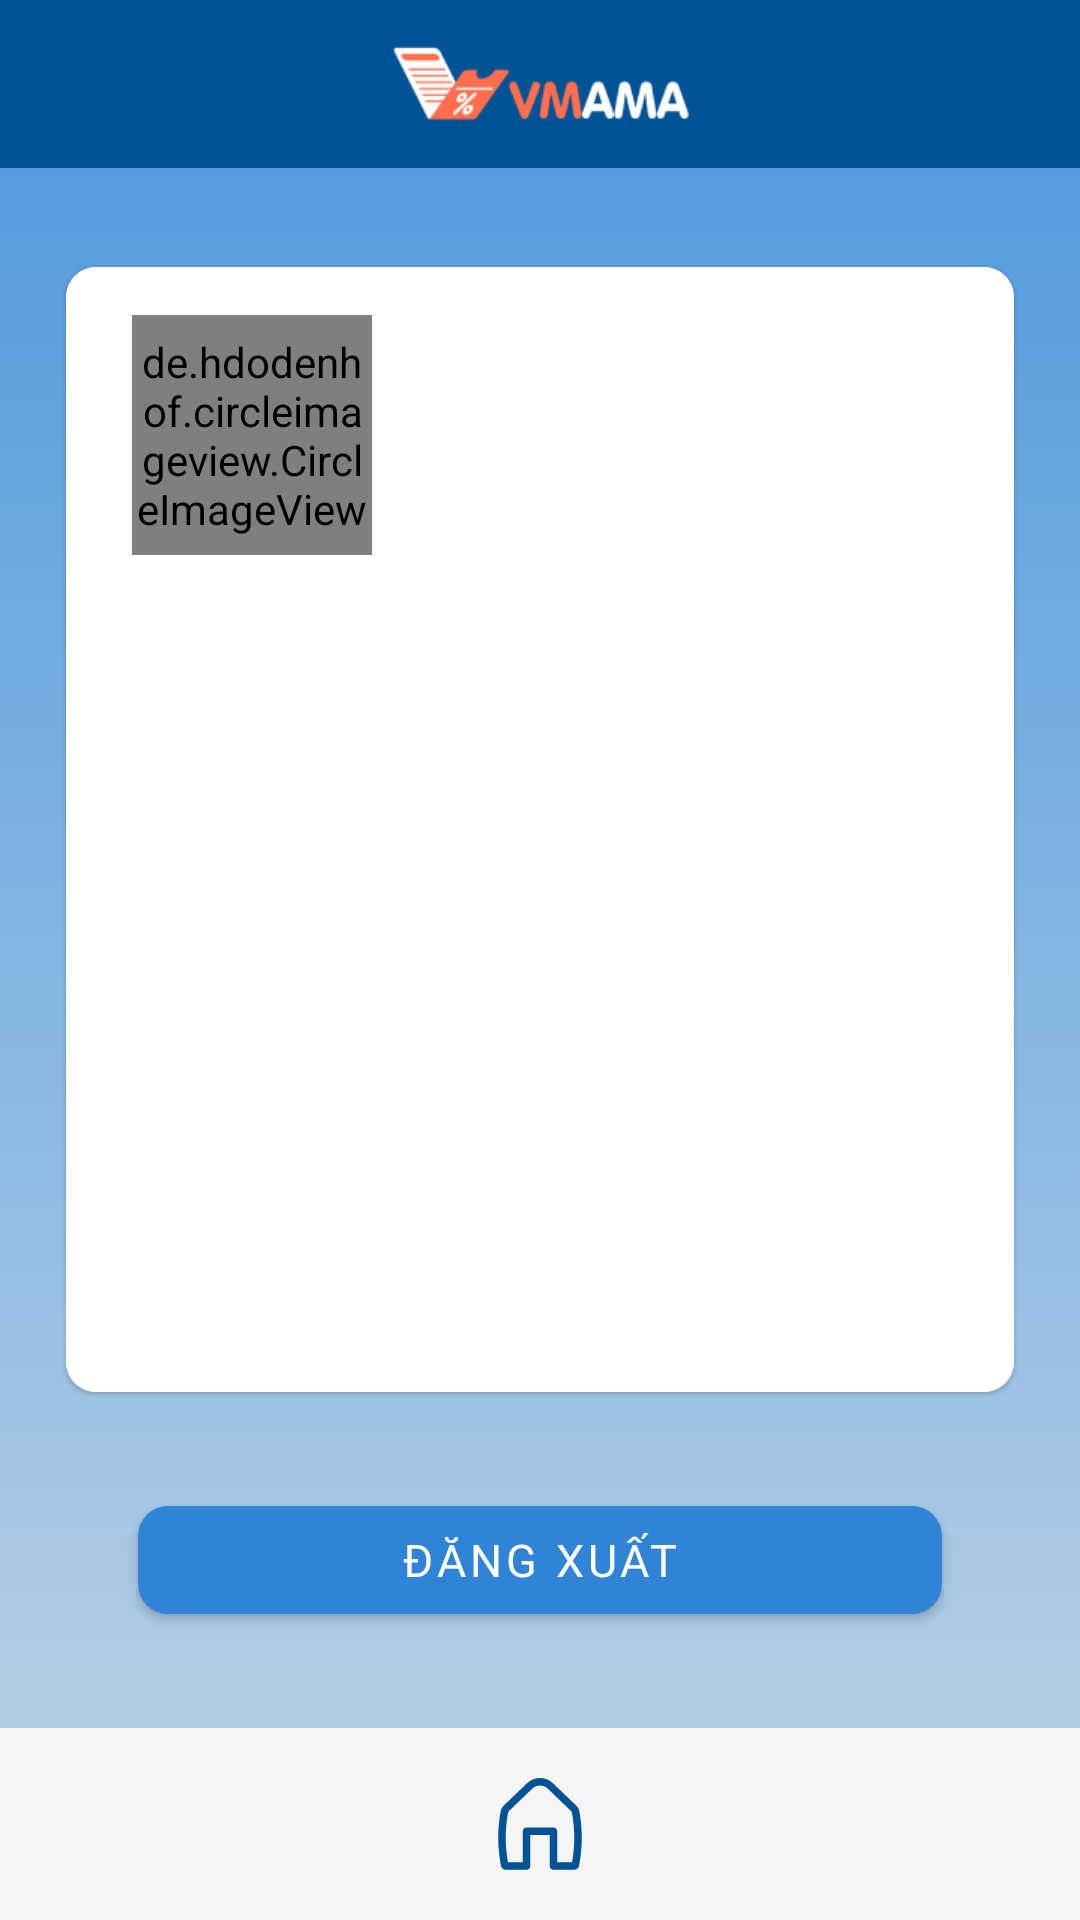

Where to tap for icons on this 1080 × 1920 app screen, as (x,y):
home: (540,1824)
